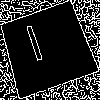I: (22, 24, 50, 72)
